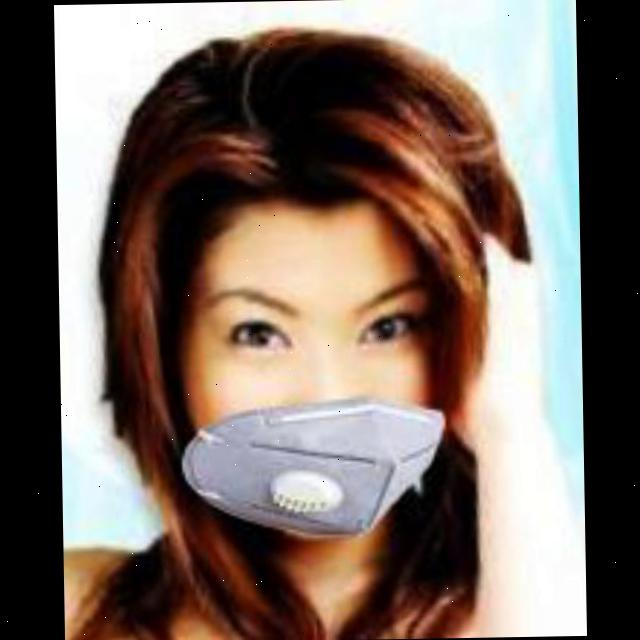suspicion: (142, 91, 510, 549)
